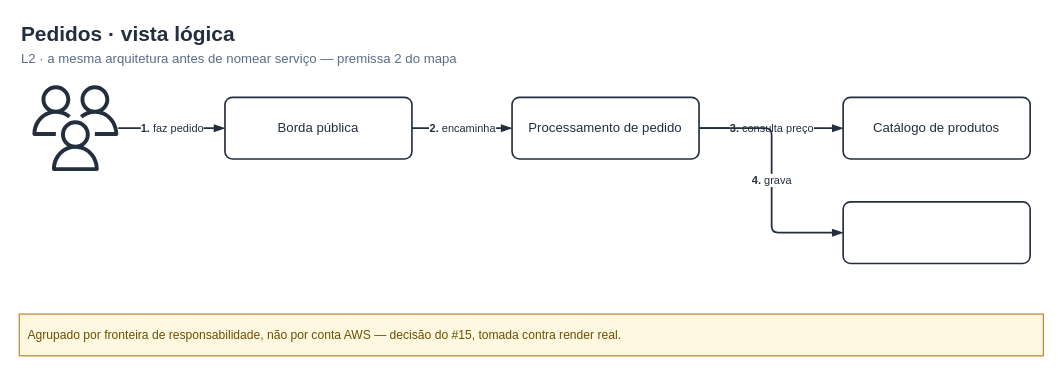
Image size: 1063x375. Some labels were removed from this diagram. Here are the shapes that lost their labels. From the top down, the centre of each, then its label:
At pixel 75 127: "Clientes".
At pixel 936 232: "Registro de pedidos".
